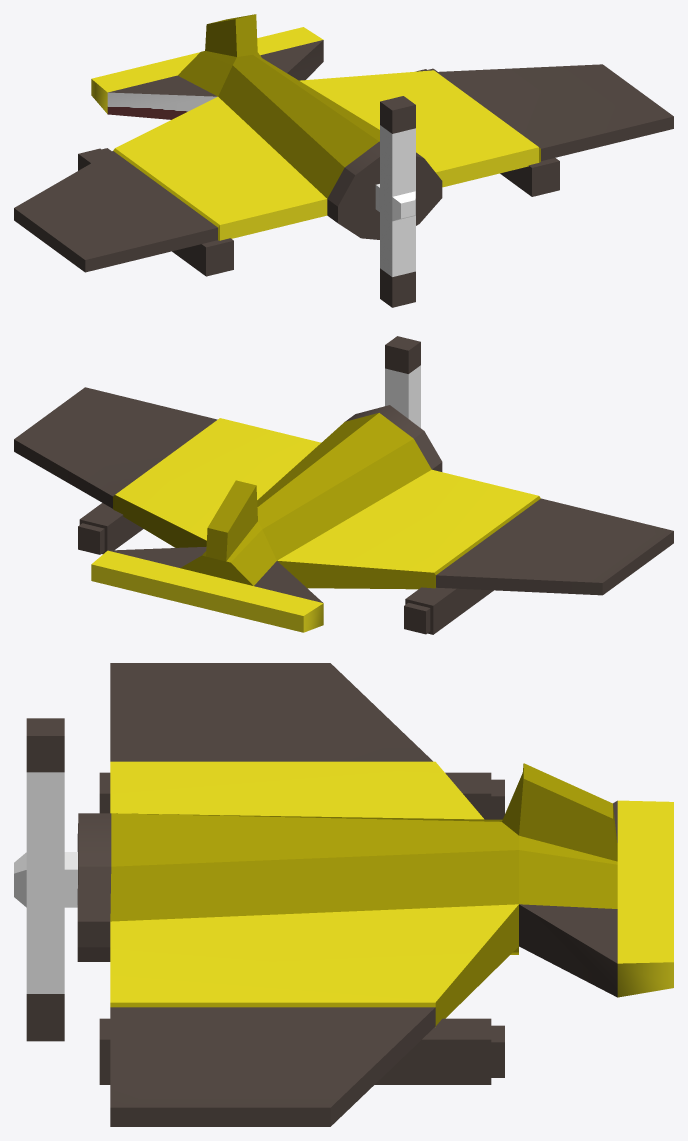
The model's file is FighterPlayer1.fbx.
3 renders of one model, top to bottom at view 1: azimuth 30°, elevation 25°; view 2: azimuth 150°, elevation 25°; view 3: azimuth 270°, elevation 25°, orthographic. The views are drawn at different scales.
Parts seen in each view (by area): view 1: FighterPlayer1Body, FighterPlayerFan, FighterPlayer1Body1, FighterPlayer1Body2; view 2: FighterPlayer1Body, FighterPlayerFan, FighterPlayer1Body1, FighterPlayer1Body2; view 3: FighterPlayer1Body, FighterPlayerFan, FighterPlayer1Body2, FighterPlayer1Body1.
Part boxes in pixels (x1,y1,x2,y2): FighterPlayer1Body: (14, 14, 673, 272); FighterPlayerFan: (375, 96, 415, 307); FighterPlayer1Body1: (78, 148, 233, 276); FighterPlayer1Body2: (416, 68, 559, 196); FighterPlayer1Body: (14, 387, 673, 632); FighterPlayerFan: (385, 336, 420, 427); FighterPlayer1Body1: (404, 587, 493, 634); FighterPlayer1Body2: (78, 503, 143, 554); FighterPlayer1Body: (77, 663, 673, 1126); FighterPlayerFan: (14, 718, 77, 1041); FighterPlayer1Body2: (99, 1018, 504, 1084); FighterPlayer1Body1: (99, 772, 504, 819).
Size of the model in its own units: 21.13 by 6.77 by 13.26.
